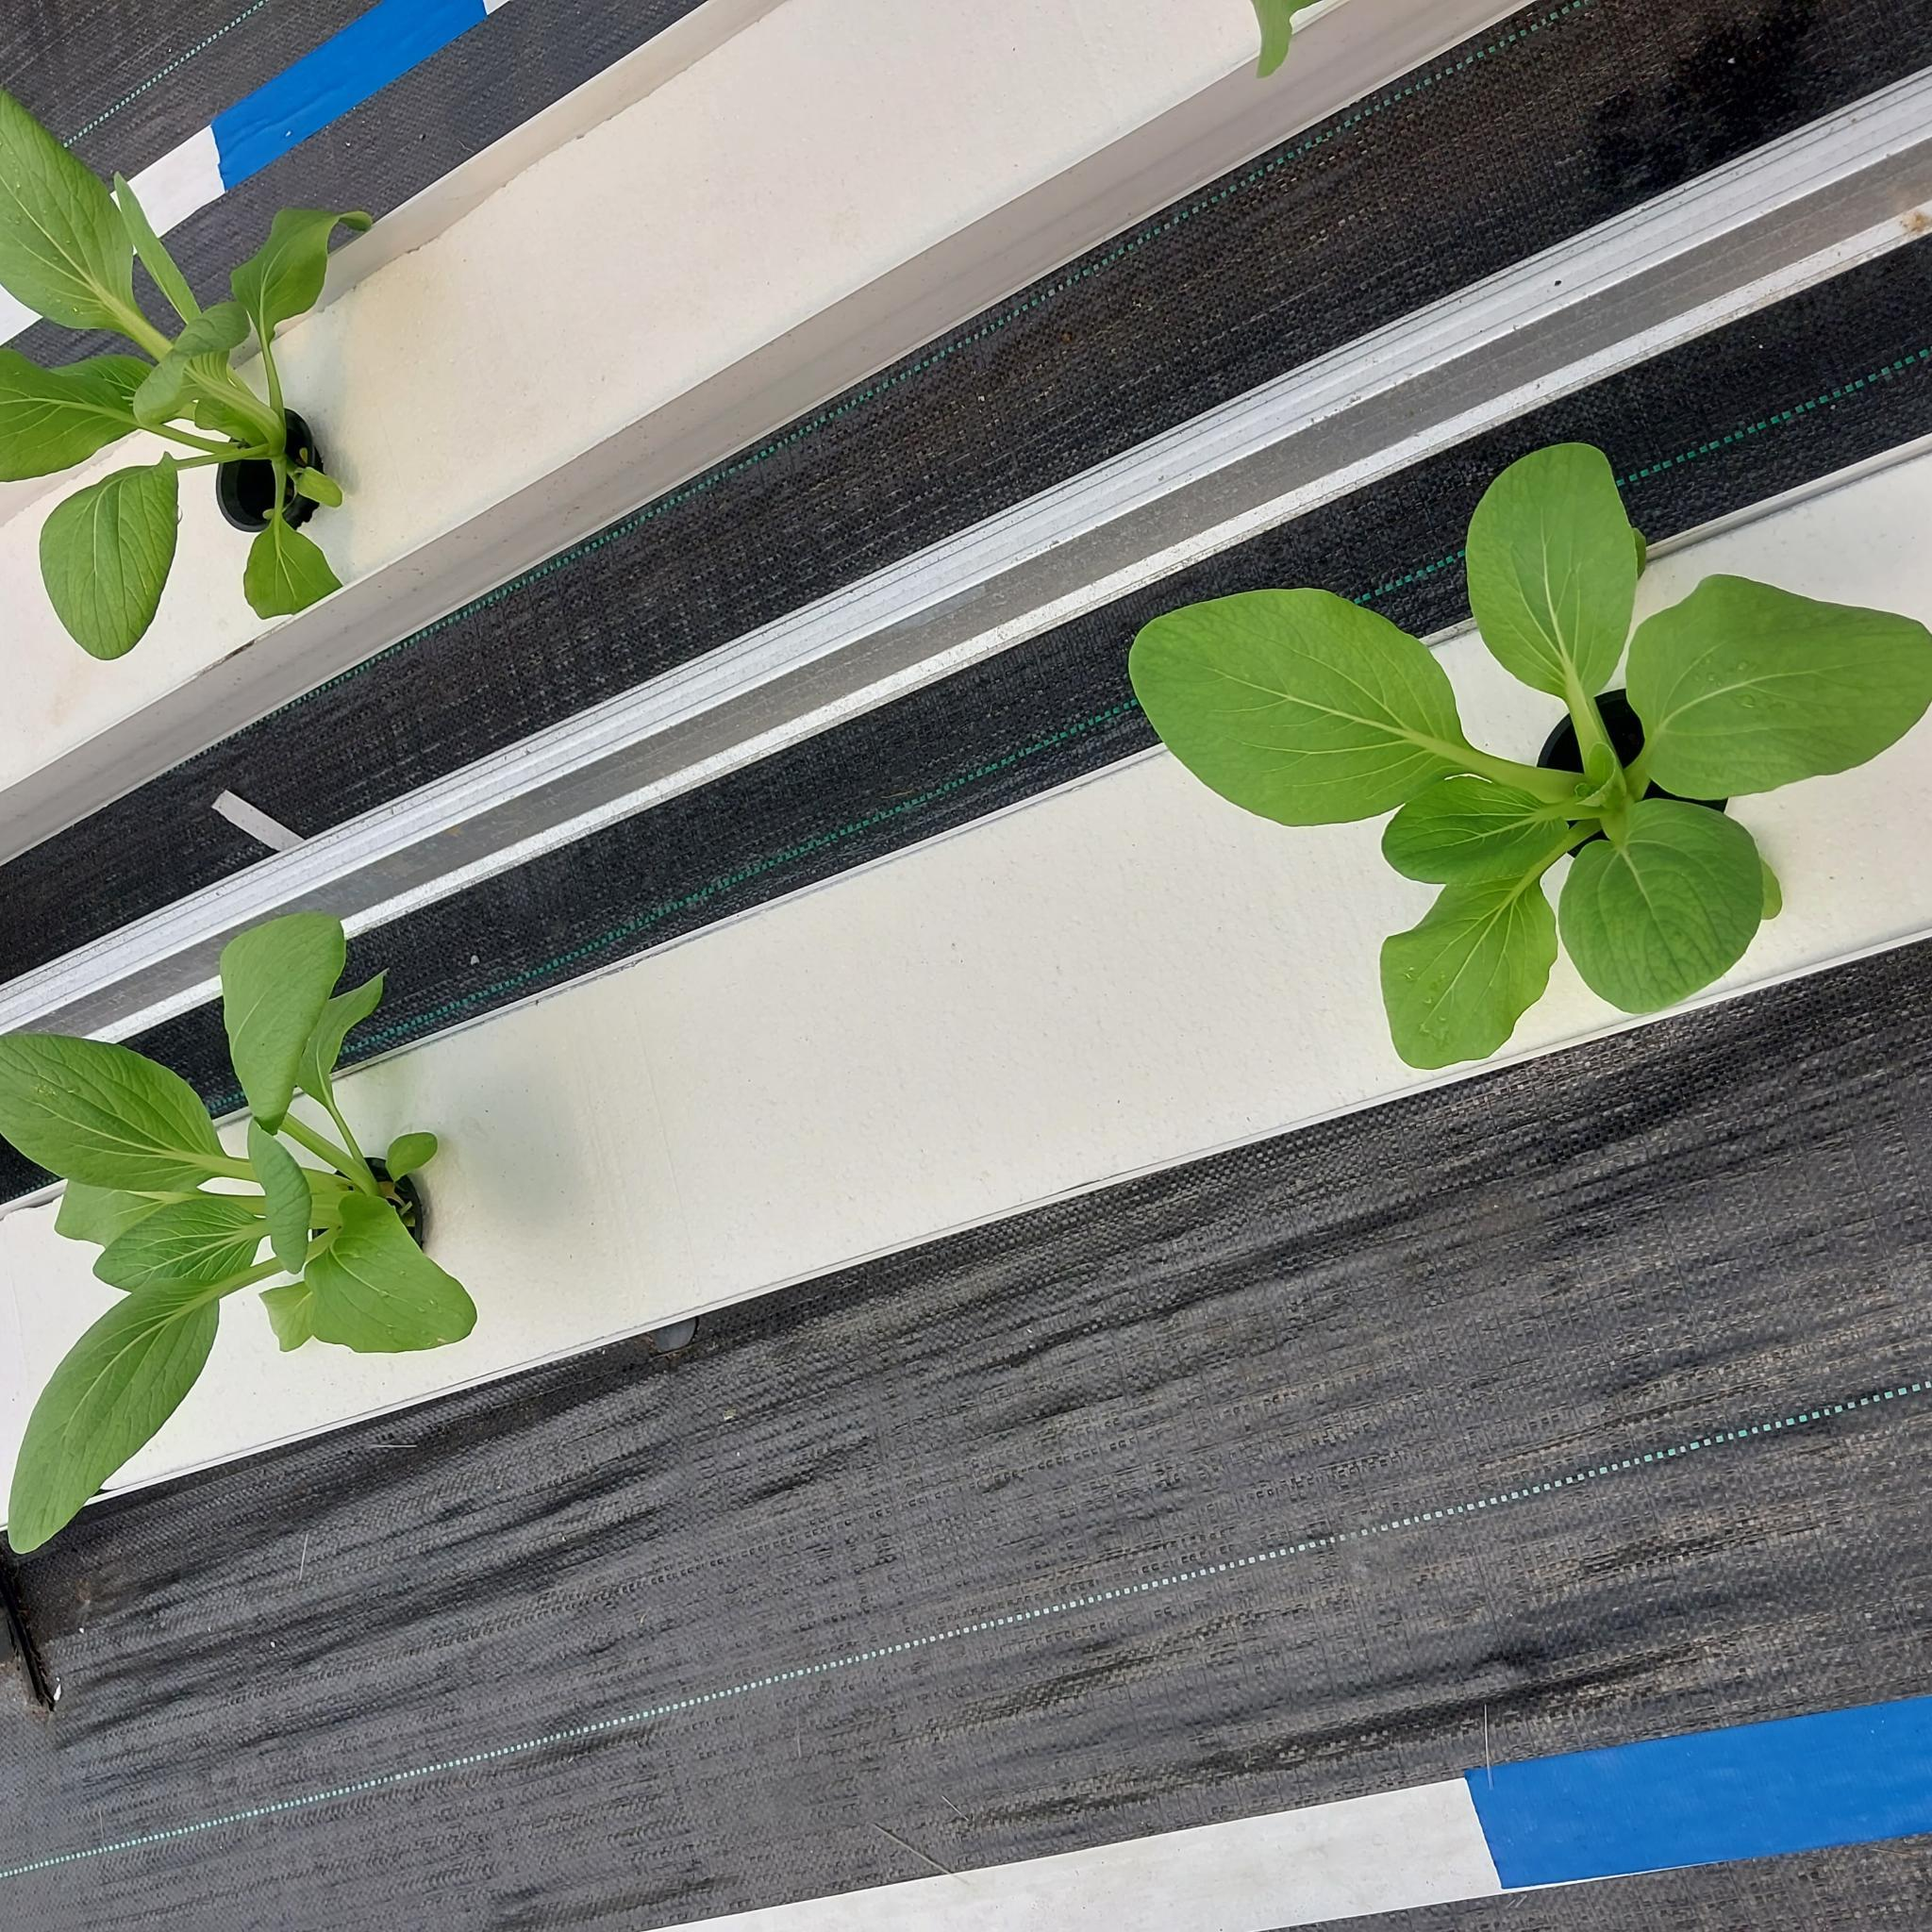Healthy-Pechay: (4, 913, 481, 1564), (2, 69, 377, 658), (1129, 589, 1529, 828), (1612, 577, 1932, 801), (4, 1253, 241, 1555), (1467, 437, 1640, 770), (0, 78, 170, 364), (1382, 814, 1575, 1065), (0, 1033, 253, 1219), (1559, 800, 1775, 1016), (39, 456, 182, 658), (219, 915, 349, 1136), (230, 205, 372, 368), (2, 352, 157, 483), (299, 968, 389, 1171), (90, 1198, 271, 1295), (251, 1122, 315, 1272)
